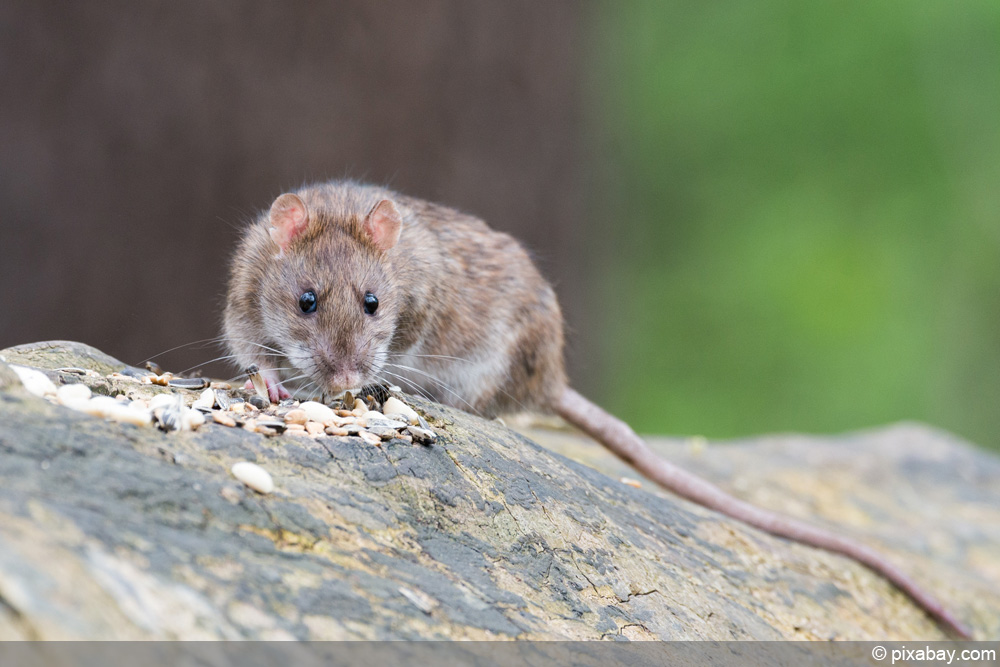rat: (205, 166, 581, 427)
